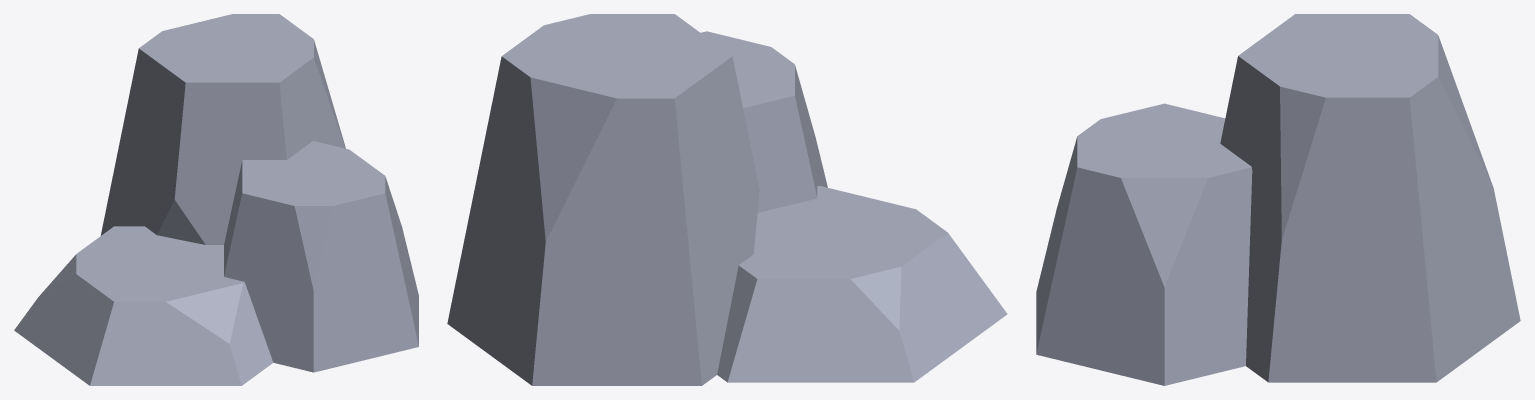
Rendered from rocks.fbx.
3 views of the same model, side by side, from view 1: azimuth 30°, elevation 25°; view 2: azimuth 150°, elevation 25°; view 3: azimuth 270°, elevation 25° (orthographic). The views are drawn at different scales.
Parts seen in each view (by area): view 1: rocks; view 2: rocks; view 3: rocks.
Boxes of the visible parts, left/top/right/bottom form: rocks: left=14, top=14, right=418, bottom=385; rocks: left=447, top=14, right=1007, bottom=385; rocks: left=1036, top=14, right=1520, bottom=385.
Bounding box in the file's own units: 6.53 × 4 × 6.62.
